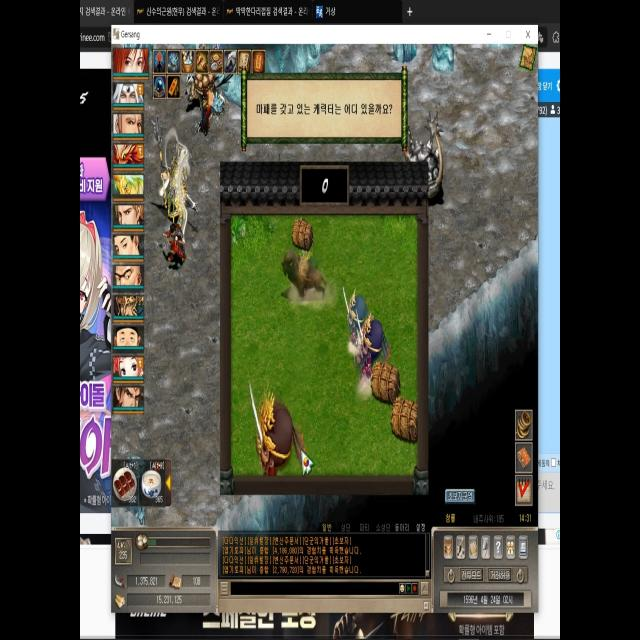character_brown: (256, 396, 314, 482), (355, 314, 389, 402), (342, 287, 370, 357), (298, 248, 316, 298), (296, 215, 308, 246)
